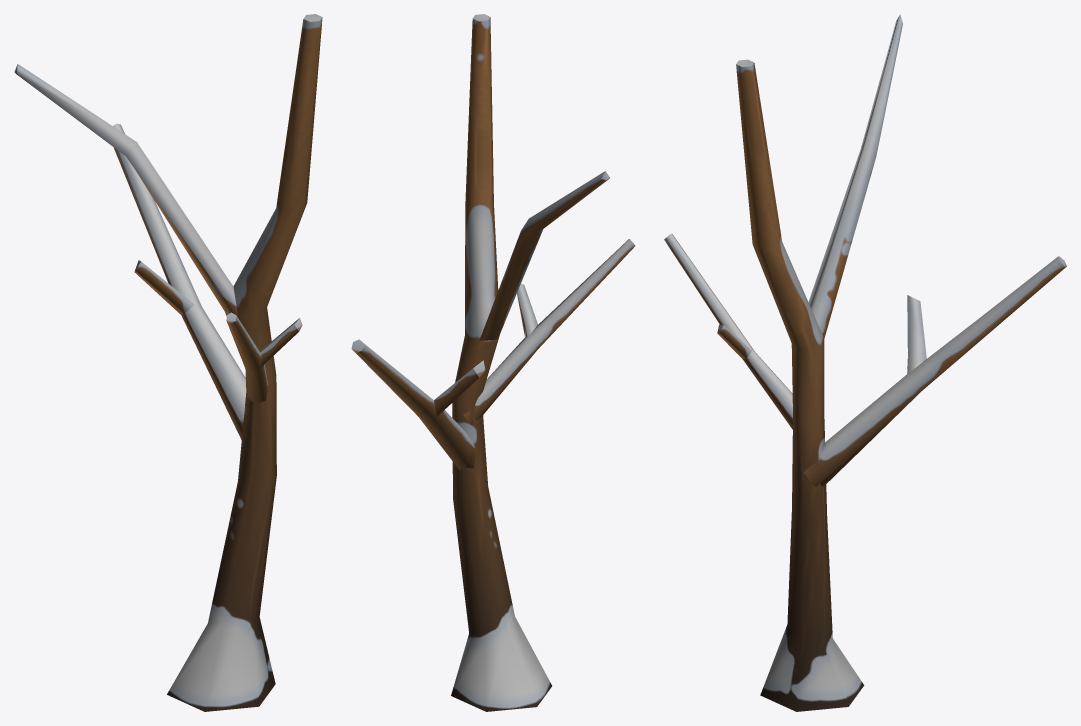
The model's file is Tree_A_4.fbx.
The picture shows the model from 3 angles, left to right: view 1: azimuth 30°, elevation 25°; view 2: azimuth 150°, elevation 25°; view 3: azimuth 270°, elevation 25°; orthographic projection. The views are drawn at different scales.
Parts seen in each view (by area): view 1: Tree_A_4; view 2: Tree_A_4; view 3: Tree_A_4.
Boxes of the visible parts, bbox=[...] form: Tree_A_4: bbox=[14, 14, 322, 711]; Tree_A_4: bbox=[351, 14, 635, 711]; Tree_A_4: bbox=[664, 14, 1066, 711].
Size of the model in its own units: 182 by 526 by 294.
1 material, 1 textured.
